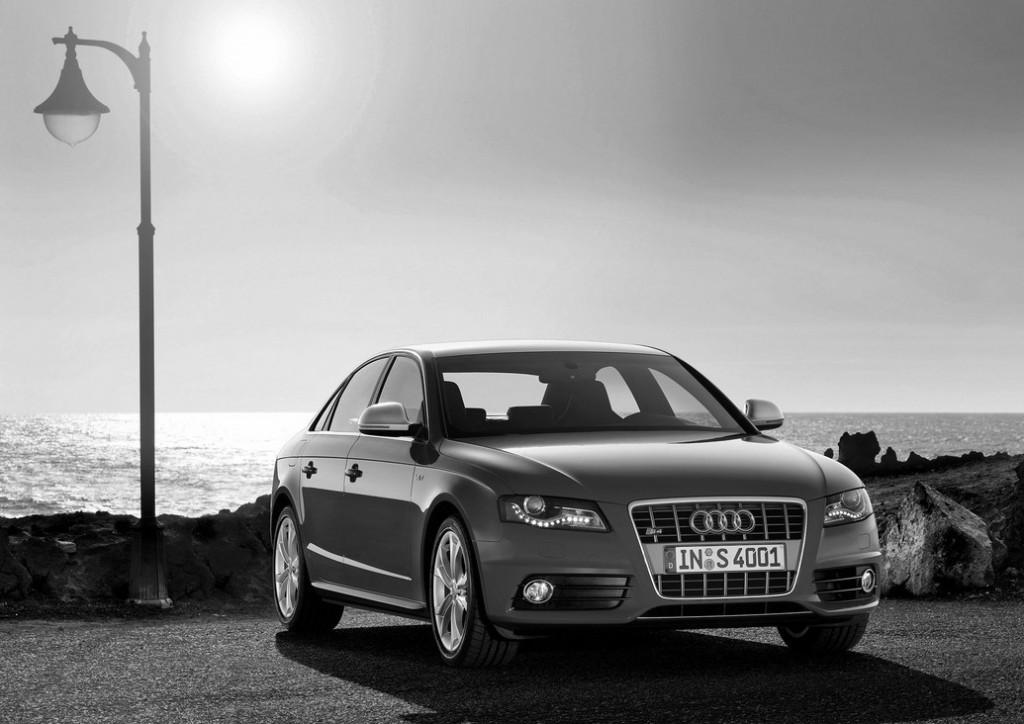car: (269, 339, 884, 671)
